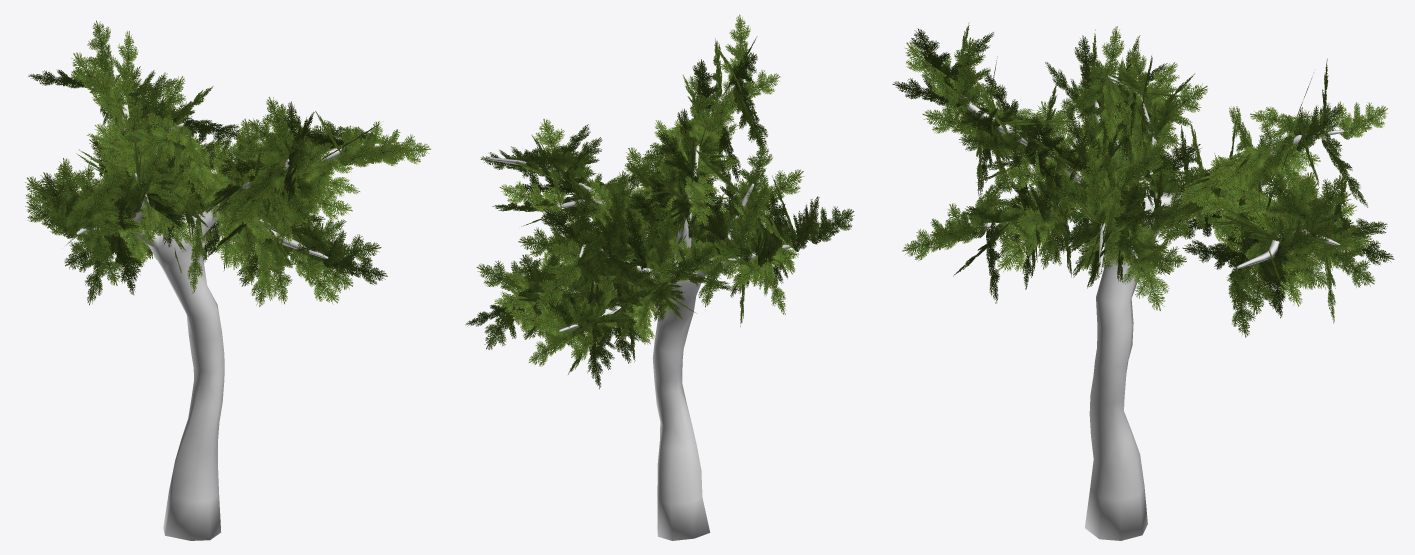
File: Tree1.fbx
3 renders of one model, left to right at view 1: azimuth 30°, elevation 25°; view 2: azimuth 150°, elevation 25°; view 3: azimuth 270°, elevation 25°, orthographic. The views are drawn at different scales.
Parts seen in each view (by area): view 1: Branch, Tree_1; view 2: Branch, Tree_1; view 3: Branch, Tree_1.
Boxes of the visible parts, left/top/right/bottom form: Branch: left=25, top=20, right=431, bottom=306; Tree_1: left=76, top=86, right=415, bottom=540; Branch: left=465, top=14, right=854, bottom=389; Tree_1: left=488, top=78, right=810, bottom=540; Branch: left=892, top=22, right=1394, bottom=337; Tree_1: left=960, top=75, right=1344, bottom=540.
Size of the model in its own units: 701 by 781 by 692.
